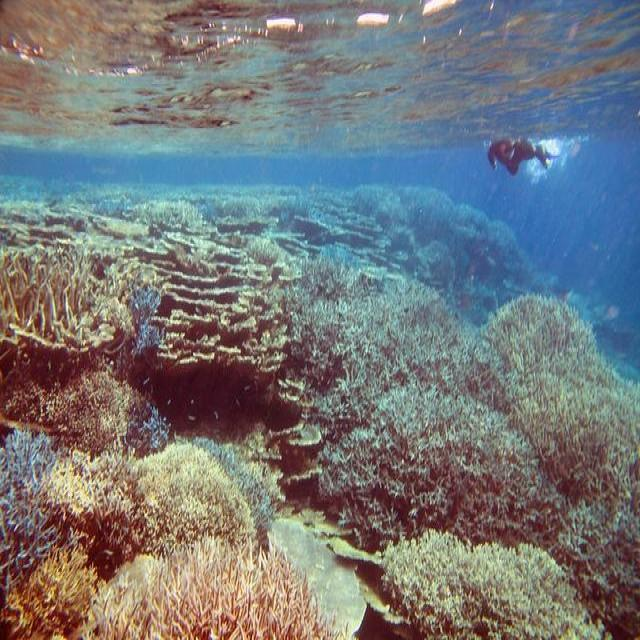reefs: (0, 179, 638, 639)
sea-floor: (488, 140, 560, 176)
